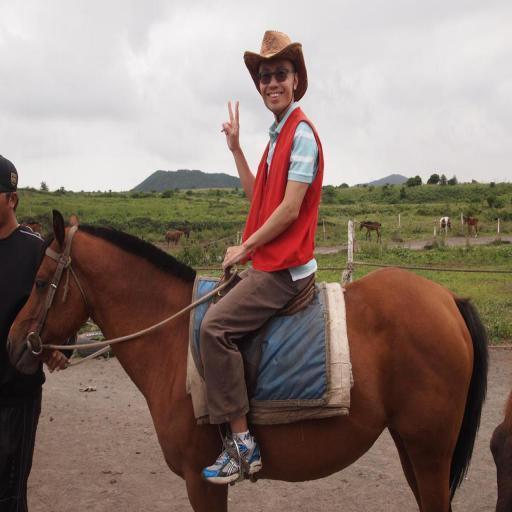horse: (5, 208, 491, 512), (490, 390, 512, 512), (359, 220, 382, 246), (164, 230, 184, 247), (463, 216, 480, 236), (439, 216, 452, 238), (179, 228, 192, 242)
